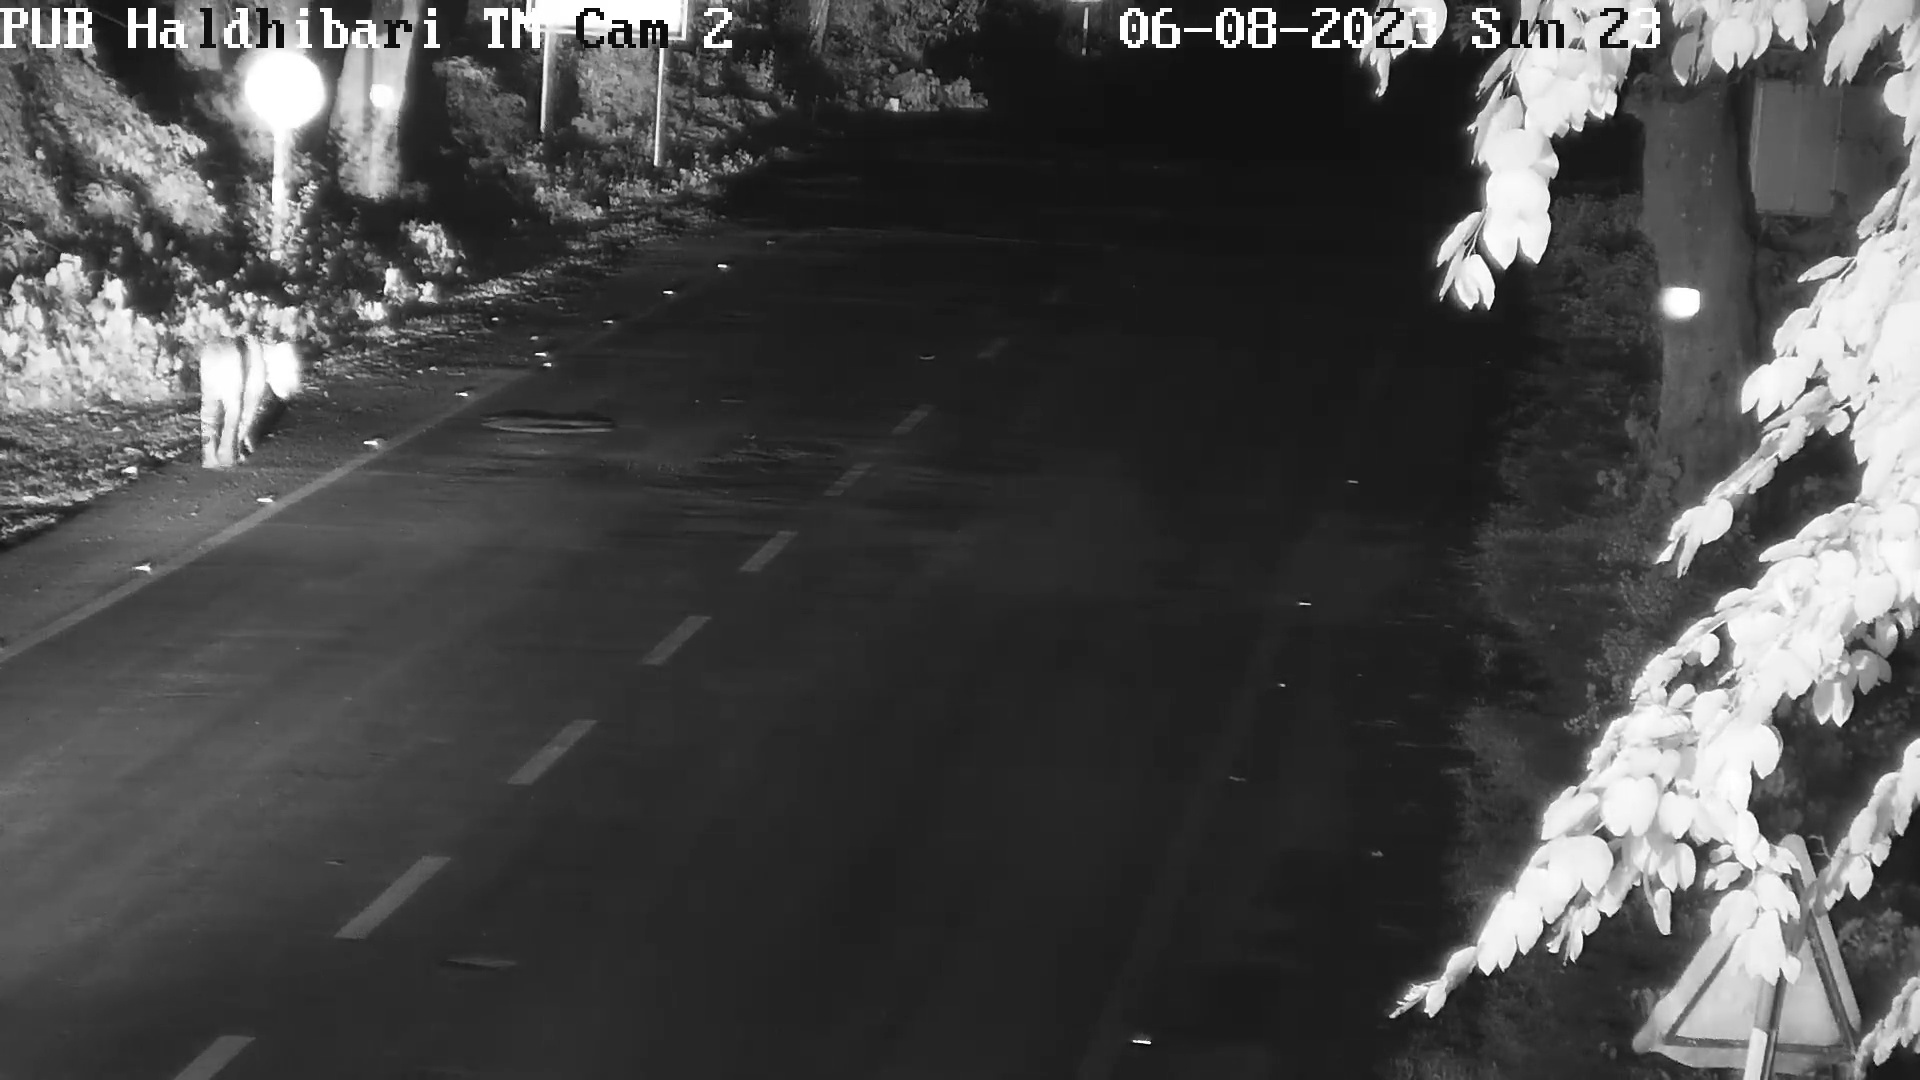tigers: (187, 335, 305, 471)
